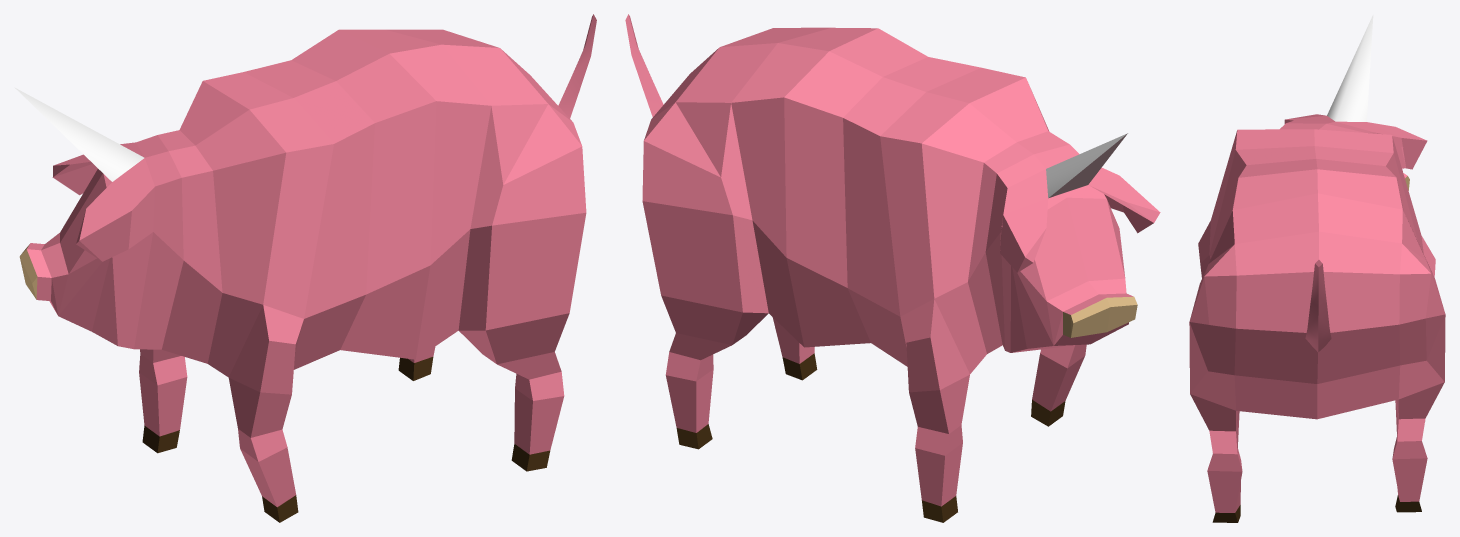
The model's file is pigRunning2.obj.
The picture shows the model from 3 angles, left to right: view 1: azimuth 30°, elevation 25°; view 2: azimuth 150°, elevation 25°; view 3: azimuth 270°, elevation 25°; orthographic projection. The views are drawn at different scales.
Visible parts, largest first — view 1: Pig_Cylinder.002_Pig_Cylinder.003; view 2: Pig_Cylinder.002_Pig_Cylinder.003; view 3: Pig_Cylinder.002_Pig_Cylinder.003.
Part boxes in pixels (left/top/right/bottom): Pig_Cylinder.002_Pig_Cylinder.003: left=14, top=14, right=596, bottom=522; Pig_Cylinder.002_Pig_Cylinder.003: left=625, top=14, right=1160, bottom=522; Pig_Cylinder.002_Pig_Cylinder.003: left=1189, top=15, right=1445, bottom=522.
Bounding box in the file's own units: 22.27 × 16.2 × 11.11.
